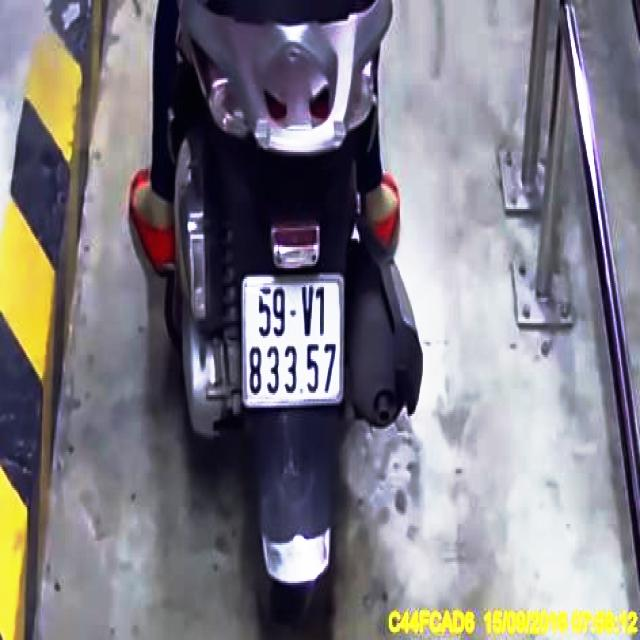license_plate: (244, 277, 342, 400)
